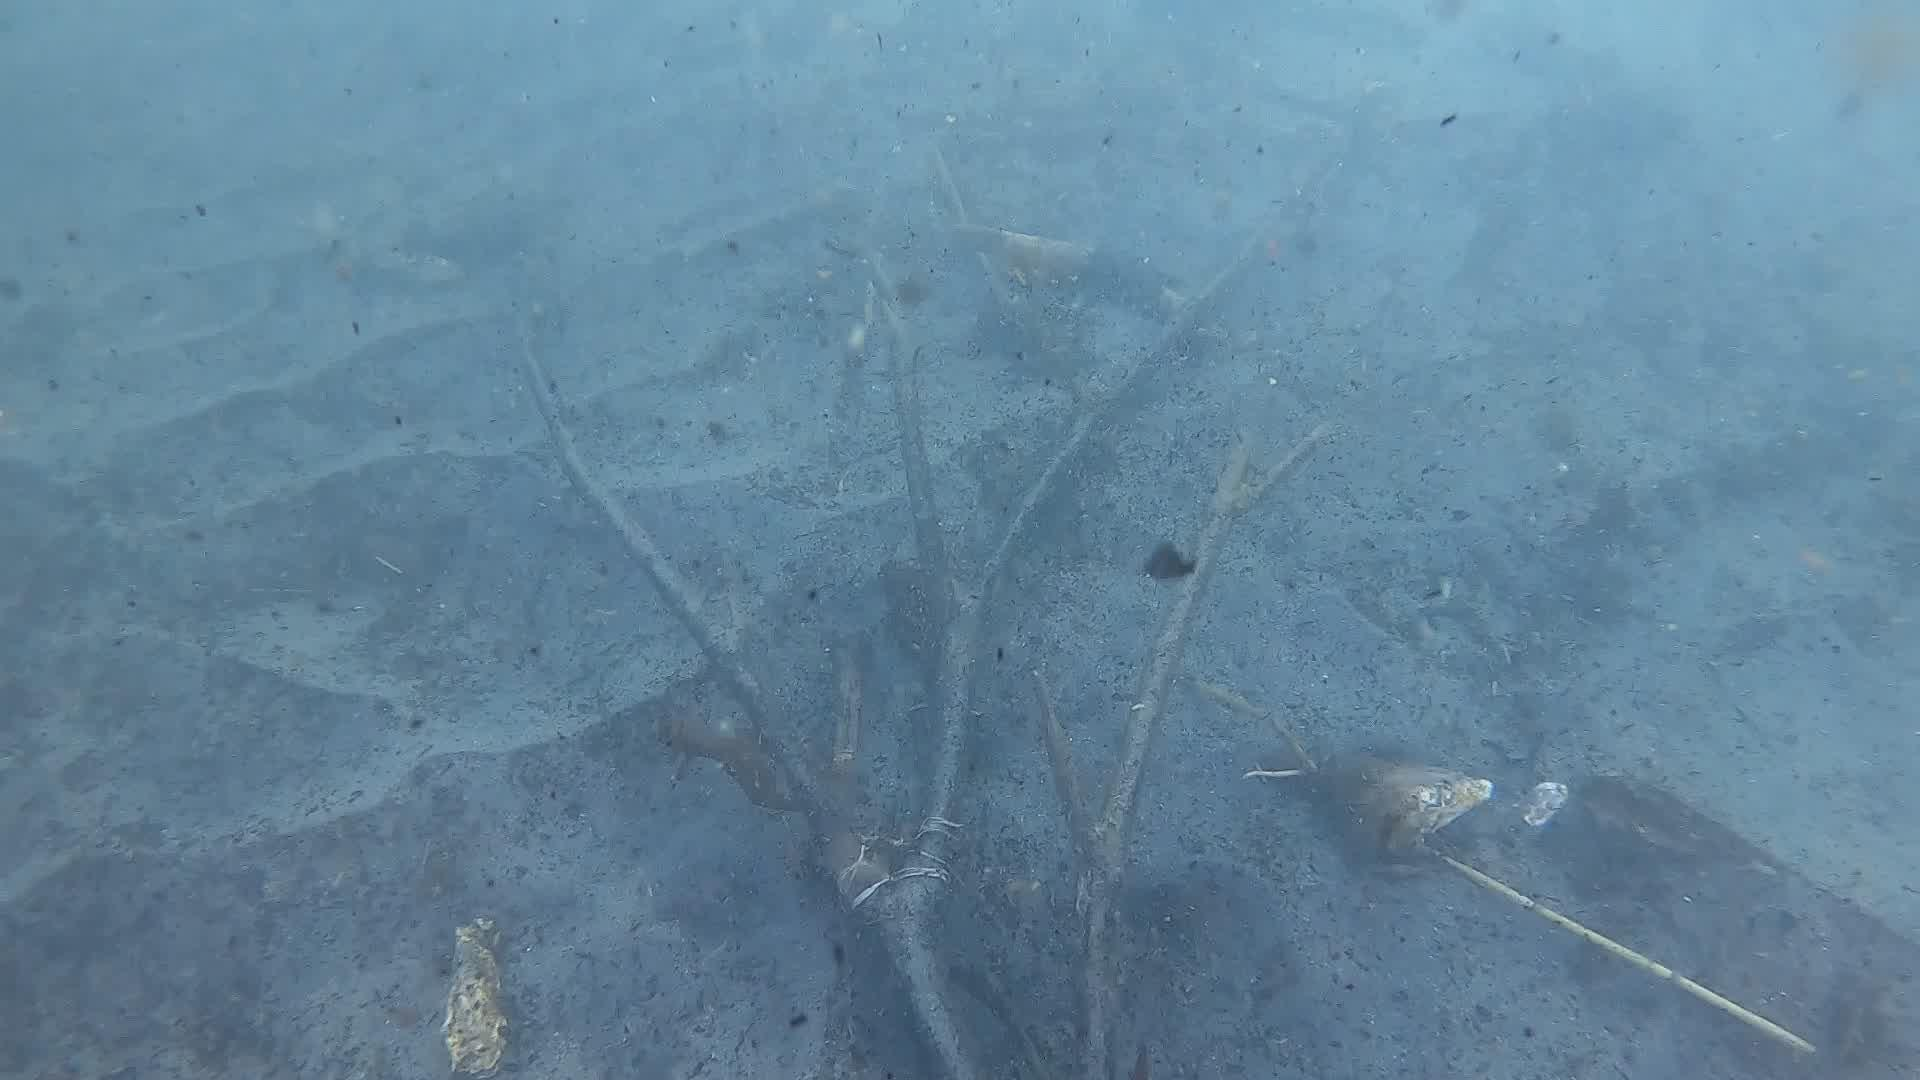wood: (512, 216, 1335, 1080)
